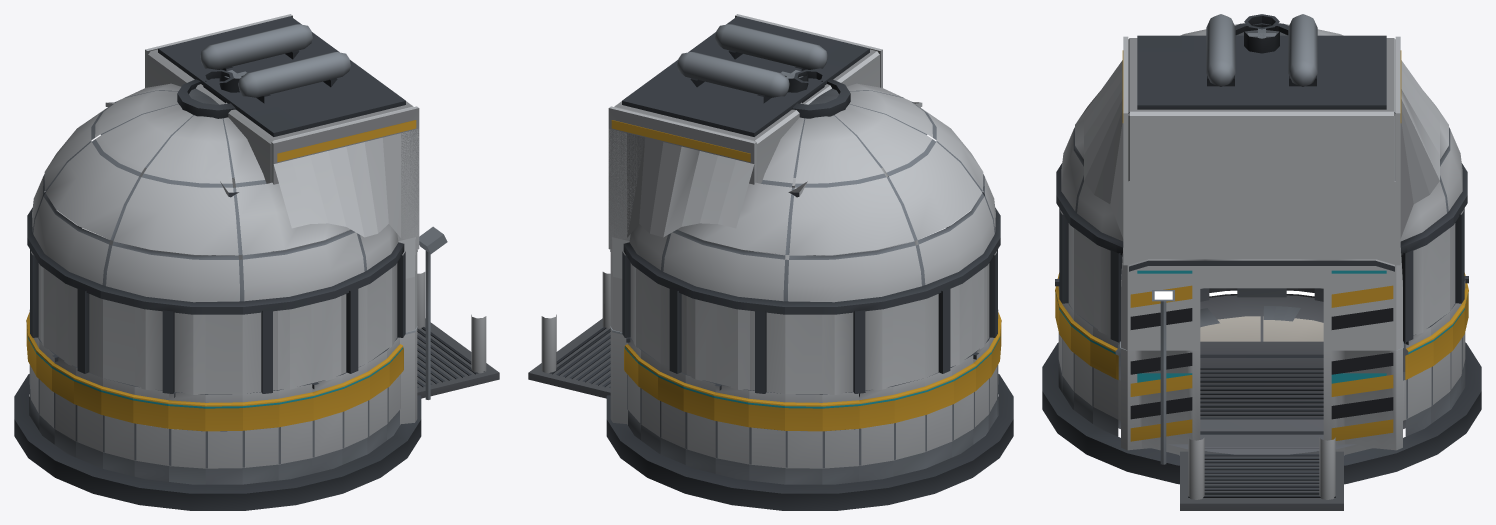
File: airlock_r28_far.glb
The picture shows the model from 3 angles, left to right: view 1: azimuth 30°, elevation 25°; view 2: azimuth 150°, elevation 25°; view 3: azimuth 270°, elevation 25°; orthographic projection. The views are drawn at different scales.
Visible parts, largest first — view 1: Roof, Base; view 2: Roof, Base; view 3: Roof, Base, Interior.
Part boxes in pixels (x1,y1,x2,y2): Roof: (27,14,447,394); Base: (14,272,499,510); Roof: (608,14,1000,394); Base: (528,272,1013,510); Roof: (1056,14,1467,366); Base: (1042,273,1481,510); Interior: (1115,288,1406,419).
Size of the model in its own units: 6.38 by 5.26 by 5.35.
